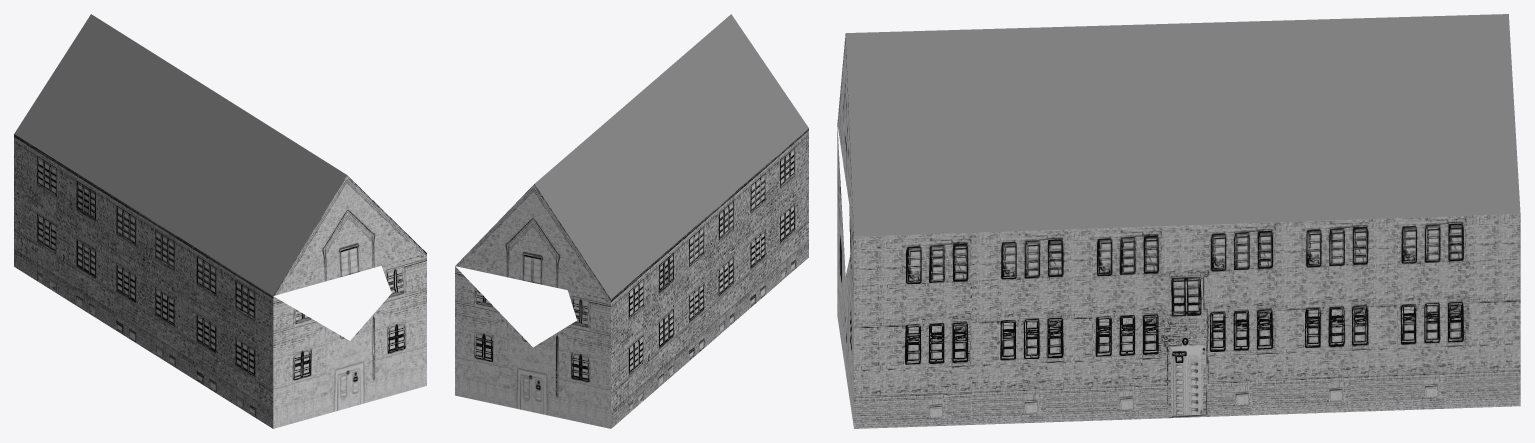
File: Verwaltungsgebaeude_1.gltf
The picture shows the model from 3 angles, left to right: view 1: azimuth 30°, elevation 25°; view 2: azimuth 150°, elevation 25°; view 3: azimuth 270°, elevation 25°; orthographic projection. The views are drawn at different scales.
Parts seen in each view (by area): view 1: Dach.1; view 2: Dach.1; view 3: Dach.1.
Part boxes in pixels (x1=…): Dach.1: x1=14, y1=14, x2=426, y2=428; Dach.1: x1=455, y1=14, x2=808, y2=428; Dach.1: x1=837, y1=14, x2=1520, y2=428.
Bounding box in the file's own units: 12.67 × 15.06 × 27.62.
4 materials, 3 textured.
